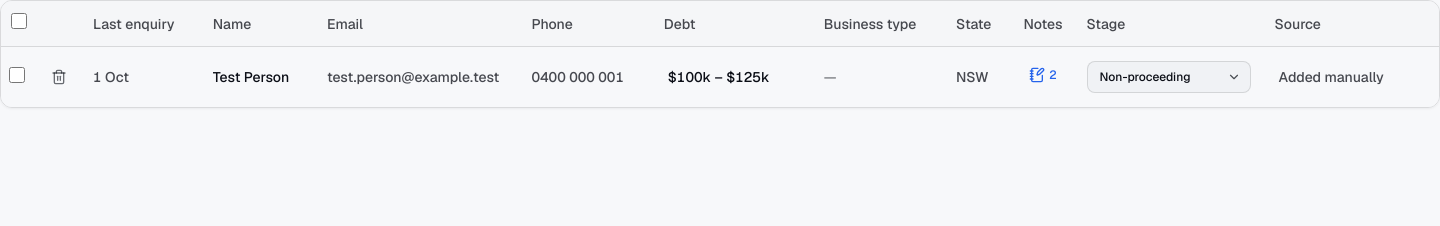
Test: the notes column › shows an icon with the count, and the notes newest first on hover
Check: the column heading "Stage" is shown, box top-left (1074, 1), bottom-right (1262, 46)
Hover over the element showing "2".
mouse_move(1043, 74)  # box top-left (1029, 66), bottom-right (1057, 82)
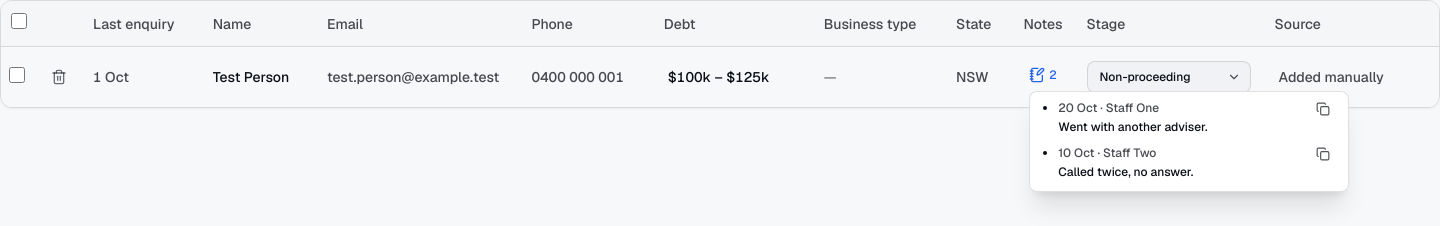
Check: the tooltip shows "Went with another adviser.", box top-left (1058, 118), bottom-right (1208, 134)
